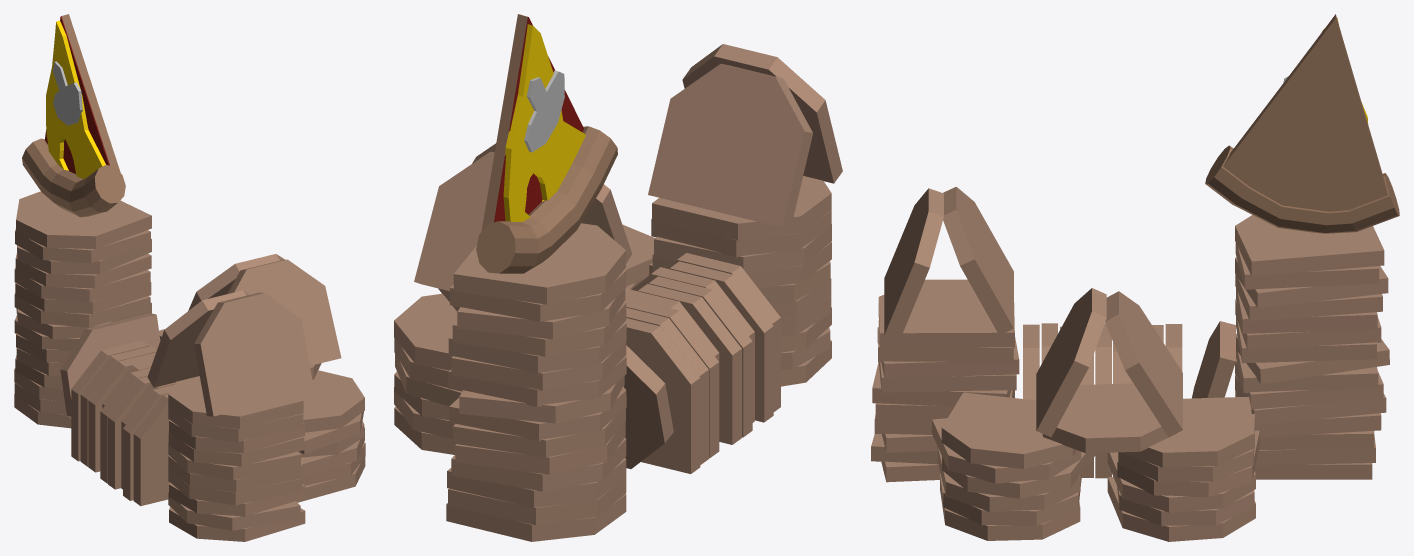
The model's file is wieza _pizzka.fbx.
3 renders of one model, left to right at view 1: azimuth 30°, elevation 25°; view 2: azimuth 150°, elevation 25°; view 3: azimuth 270°, elevation 25°, orthographic. The views are drawn at different scales.
Visible parts, largest first — view 1: Cylinder.007; view 2: Cylinder.007; view 3: Cylinder.007.
Boxes of the visible parts, x1=… form: Cylinder.007: x1=14, y1=14, x2=365, y2=541; Cylinder.007: x1=394, y1=14, x2=842, y2=541; Cylinder.007: x1=871, y1=14, x2=1399, y2=541.
Size of the model in its own units: 593 by 997 by 1087.
